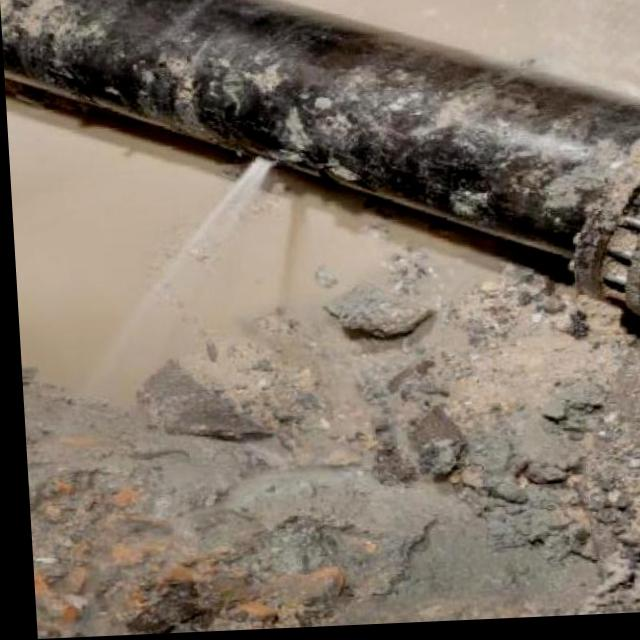leak: (39, 145, 287, 447)
